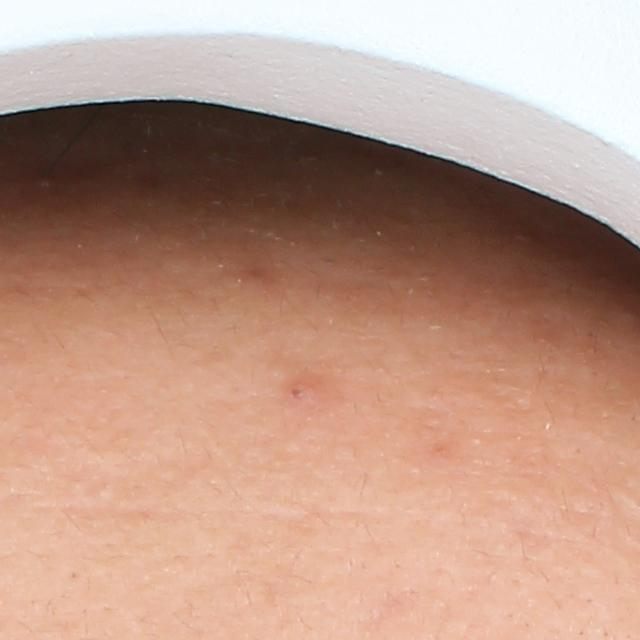papule: (285, 379, 327, 411)
